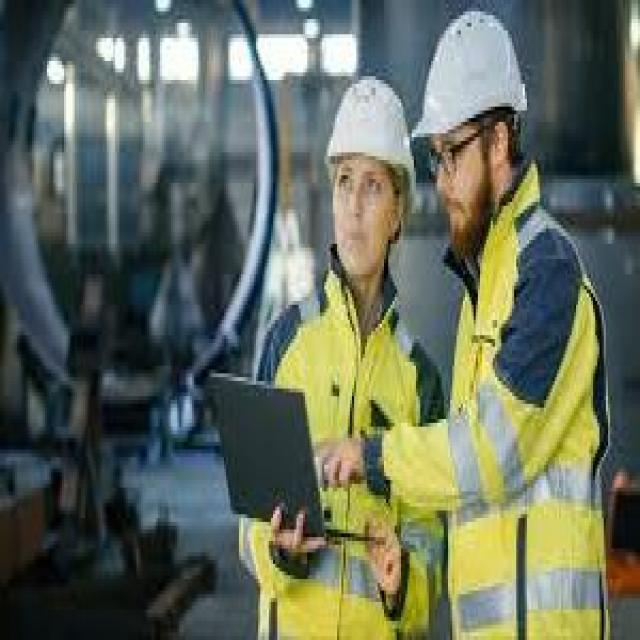Reflective-Jacket: (440, 198, 612, 636), (245, 274, 427, 636)
Safety-Helmet: (412, 8, 531, 152), (320, 69, 420, 198)
